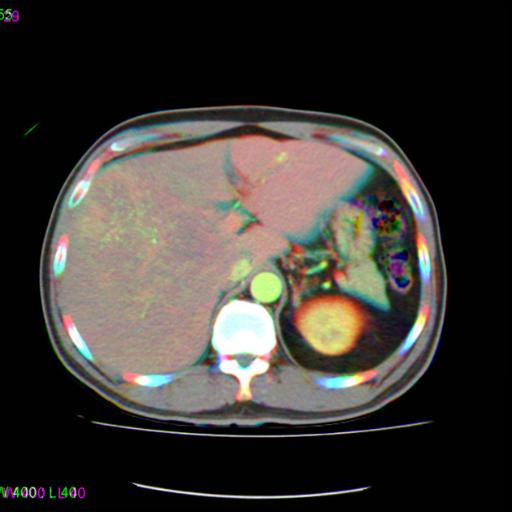Tumor: (151, 207, 230, 273)
